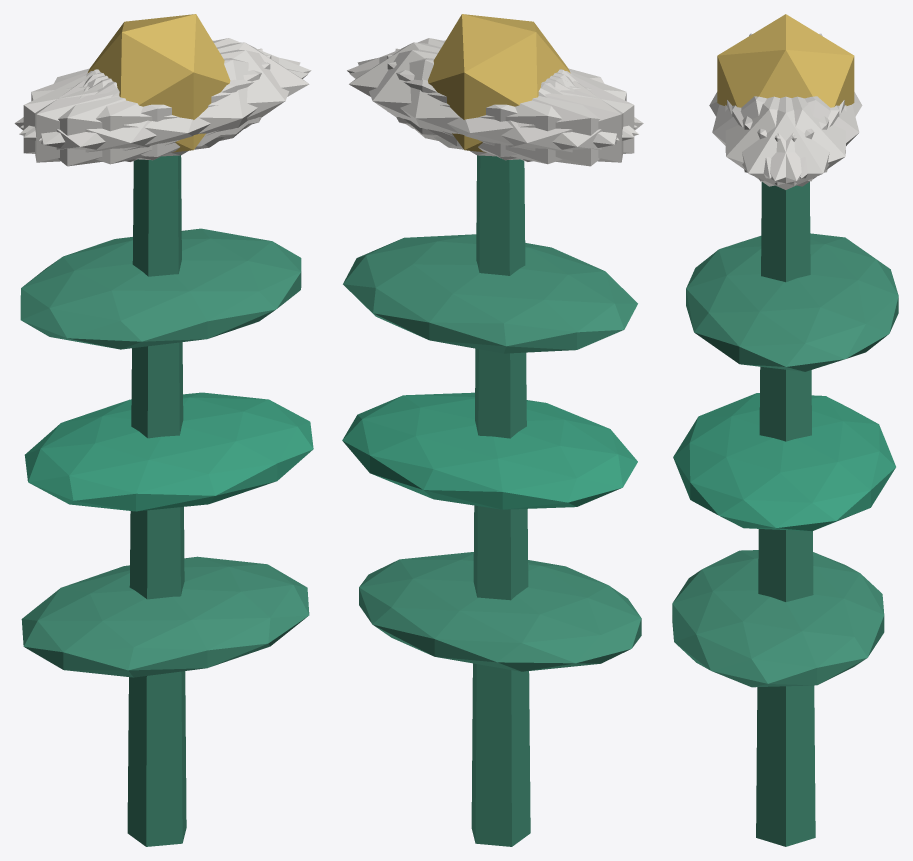
Rendered from brachystelma-molaventi.glb.
3 renders of one model, left to right at view 1: azimuth 30°, elevation 25°; view 2: azimuth 150°, elevation 25°; view 3: azimuth 270°, elevation 25°, orthographic.
Parts seen in each view (by area): view 1: stem, leaf0, leaf1, leaf2, center, petal1, petal6, petal2, petal5, petal7, petal0, petal4 (+2 smaller); view 2: stem, leaf2, leaf1, leaf0, center, petal8, petal3, petal7, petal4, petal2, petal0, petal5 (+2 smaller); view 3: leaf1, stem, leaf2, leaf0, center, petal0, petal5, petal4, petal1, petal8.
Part boxes in pixels (x1,y1,x2,y2): stem: (127, 155, 186, 846); leaf0: (21, 556, 309, 677); leaf1: (24, 392, 313, 511); leaf2: (20, 228, 301, 349); center: (87, 14, 230, 152); petal1: (19, 58, 308, 164); petal6: (14, 71, 224, 166); petal2: (35, 48, 262, 162); petal5: (39, 49, 300, 156); petal7: (23, 55, 271, 160); petal0: (87, 42, 309, 146); petal4: (20, 38, 311, 137); stem: (471, 155, 530, 846); leaf2: (343, 234, 637, 353); leaf1: (342, 392, 637, 509); leaf0: (359, 552, 641, 671); center: (428, 14, 570, 152); petal8: (349, 58, 638, 164); petal3: (434, 71, 643, 166); petal7: (395, 48, 623, 162); petal4: (357, 49, 619, 156); petal2: (387, 55, 634, 160); petal0: (349, 42, 570, 146); petal5: (347, 38, 637, 137); leaf1: (673, 393, 895, 531); stem: (756, 181, 815, 846); leaf2: (686, 233, 898, 371); leaf0: (672, 550, 884, 687); center: (717, 14, 854, 107); petal0: (727, 96, 844, 189); petal5: (725, 96, 839, 186); petal4: (732, 96, 846, 186); petal1: (712, 96, 828, 178); petal8: (742, 96, 859, 178).
Size of the model in its own units: 0.1452 by 0.3953 by 0.1011.
